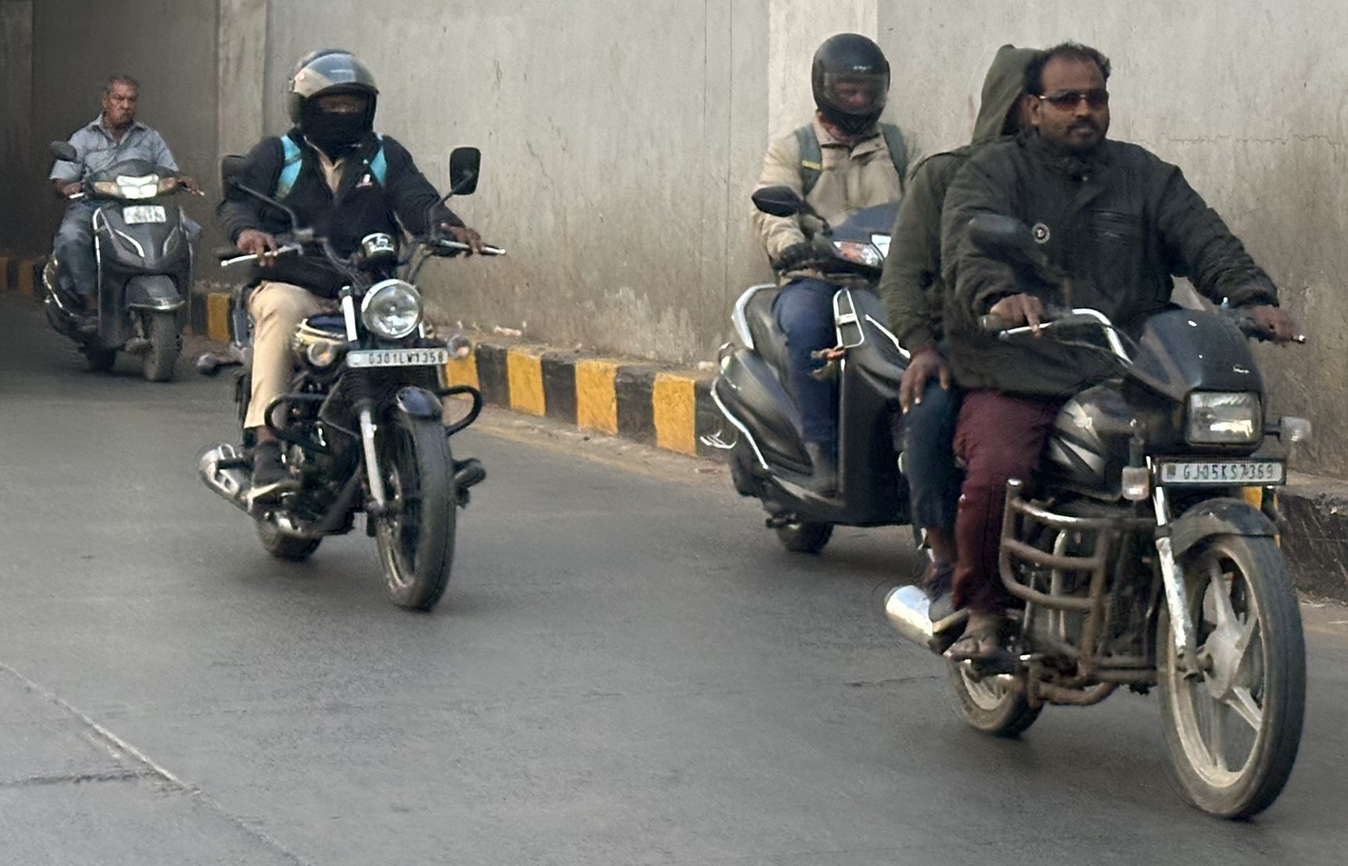BikeWithRider: (882, 35, 1314, 827), (193, 45, 504, 615), (695, 24, 927, 572), (24, 68, 203, 387)
Helmet: (281, 42, 390, 164), (805, 27, 897, 142)
NoHelmet: (1027, 44, 1120, 150), (964, 41, 1049, 148), (101, 72, 143, 129)
